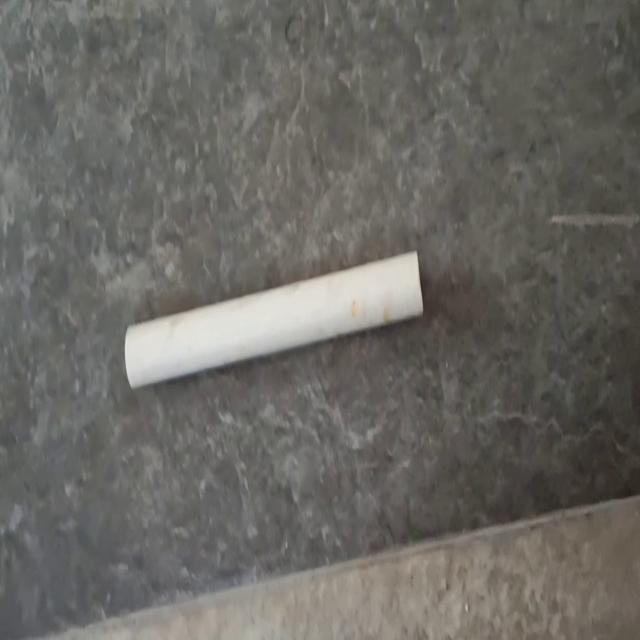Cube: (123, 247, 424, 390)
